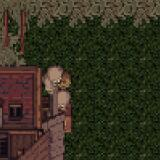Interaction: (0, 4, 33, 44)
Obstacle: (0, 30, 88, 160)
